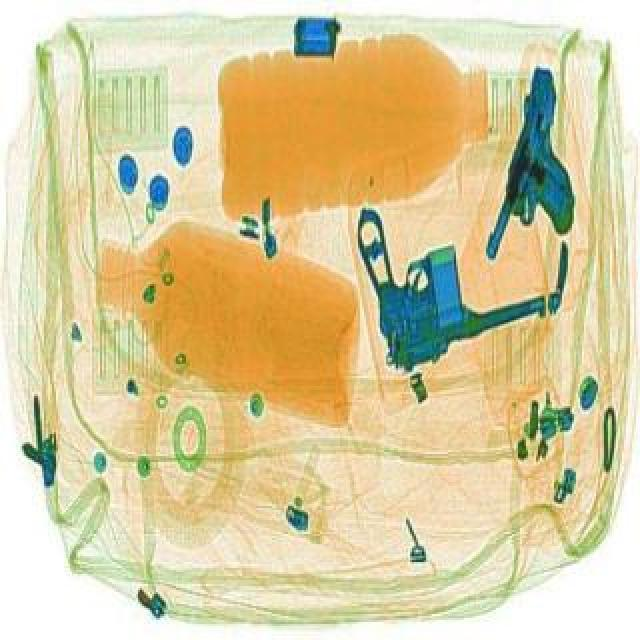gun: (344, 168, 556, 372), (478, 64, 614, 272)
